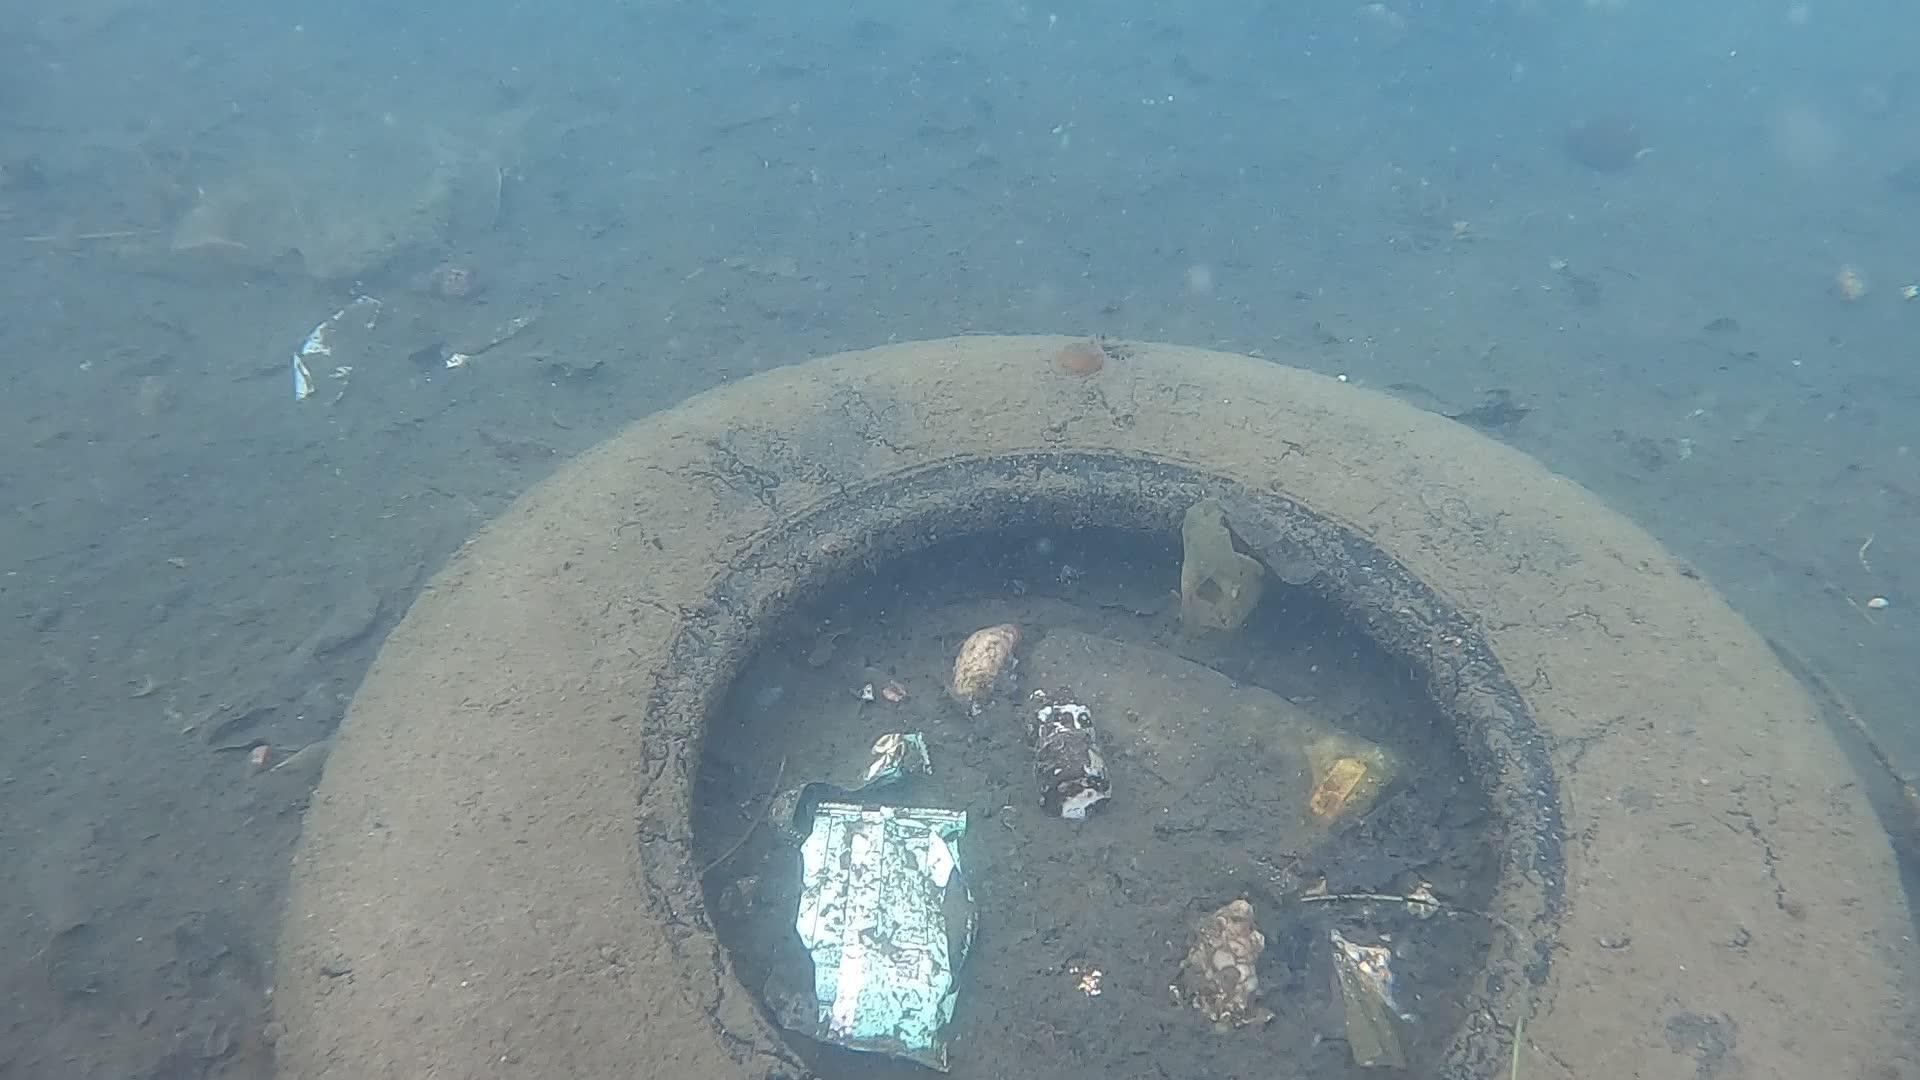tire: (268, 326, 1920, 1080)
